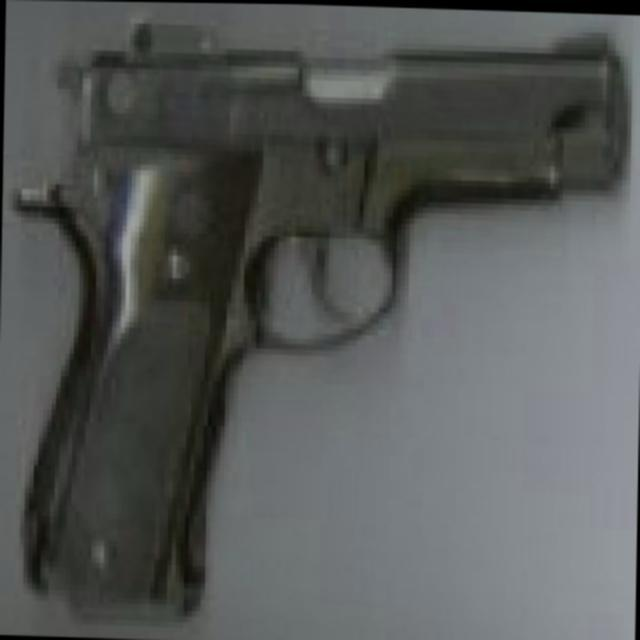weapon: (6, 2, 628, 628)
